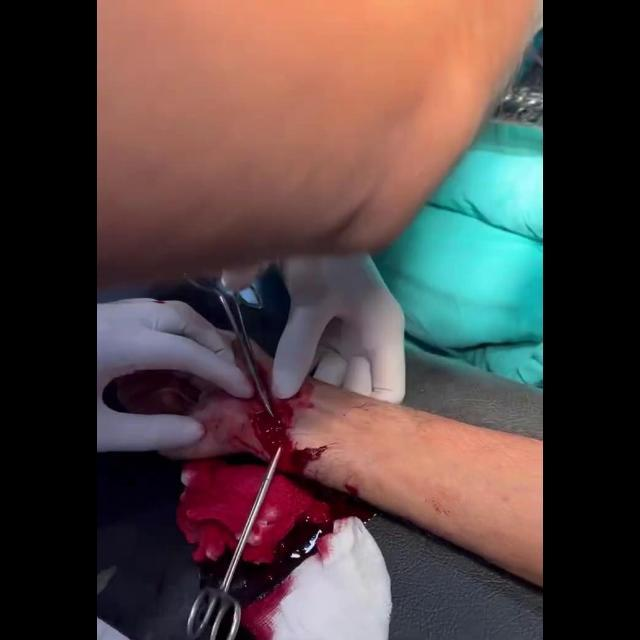blood: (228, 473, 375, 640), (176, 460, 266, 589), (194, 384, 321, 475)
